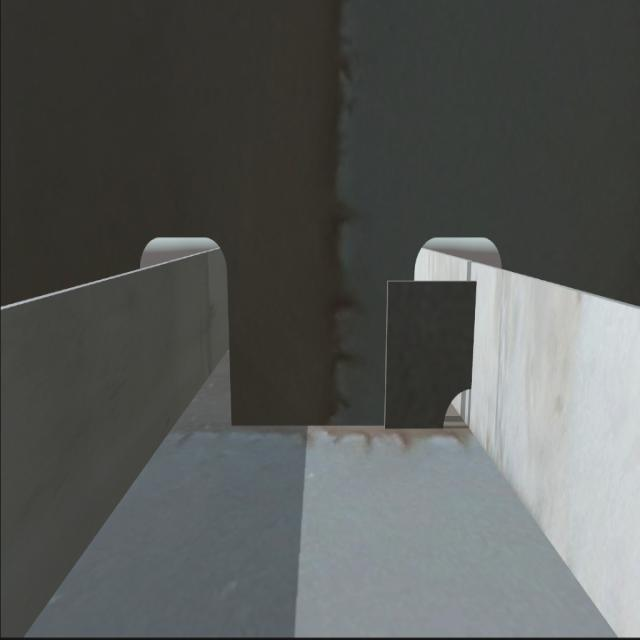fillet_hole: (439, 383, 473, 429)
fillet_yong_jeop_jang: (226, 405, 450, 439)
longi_yong_jeop_jang: (466, 275, 483, 385)
plate_CP01: (384, 282, 474, 432)
